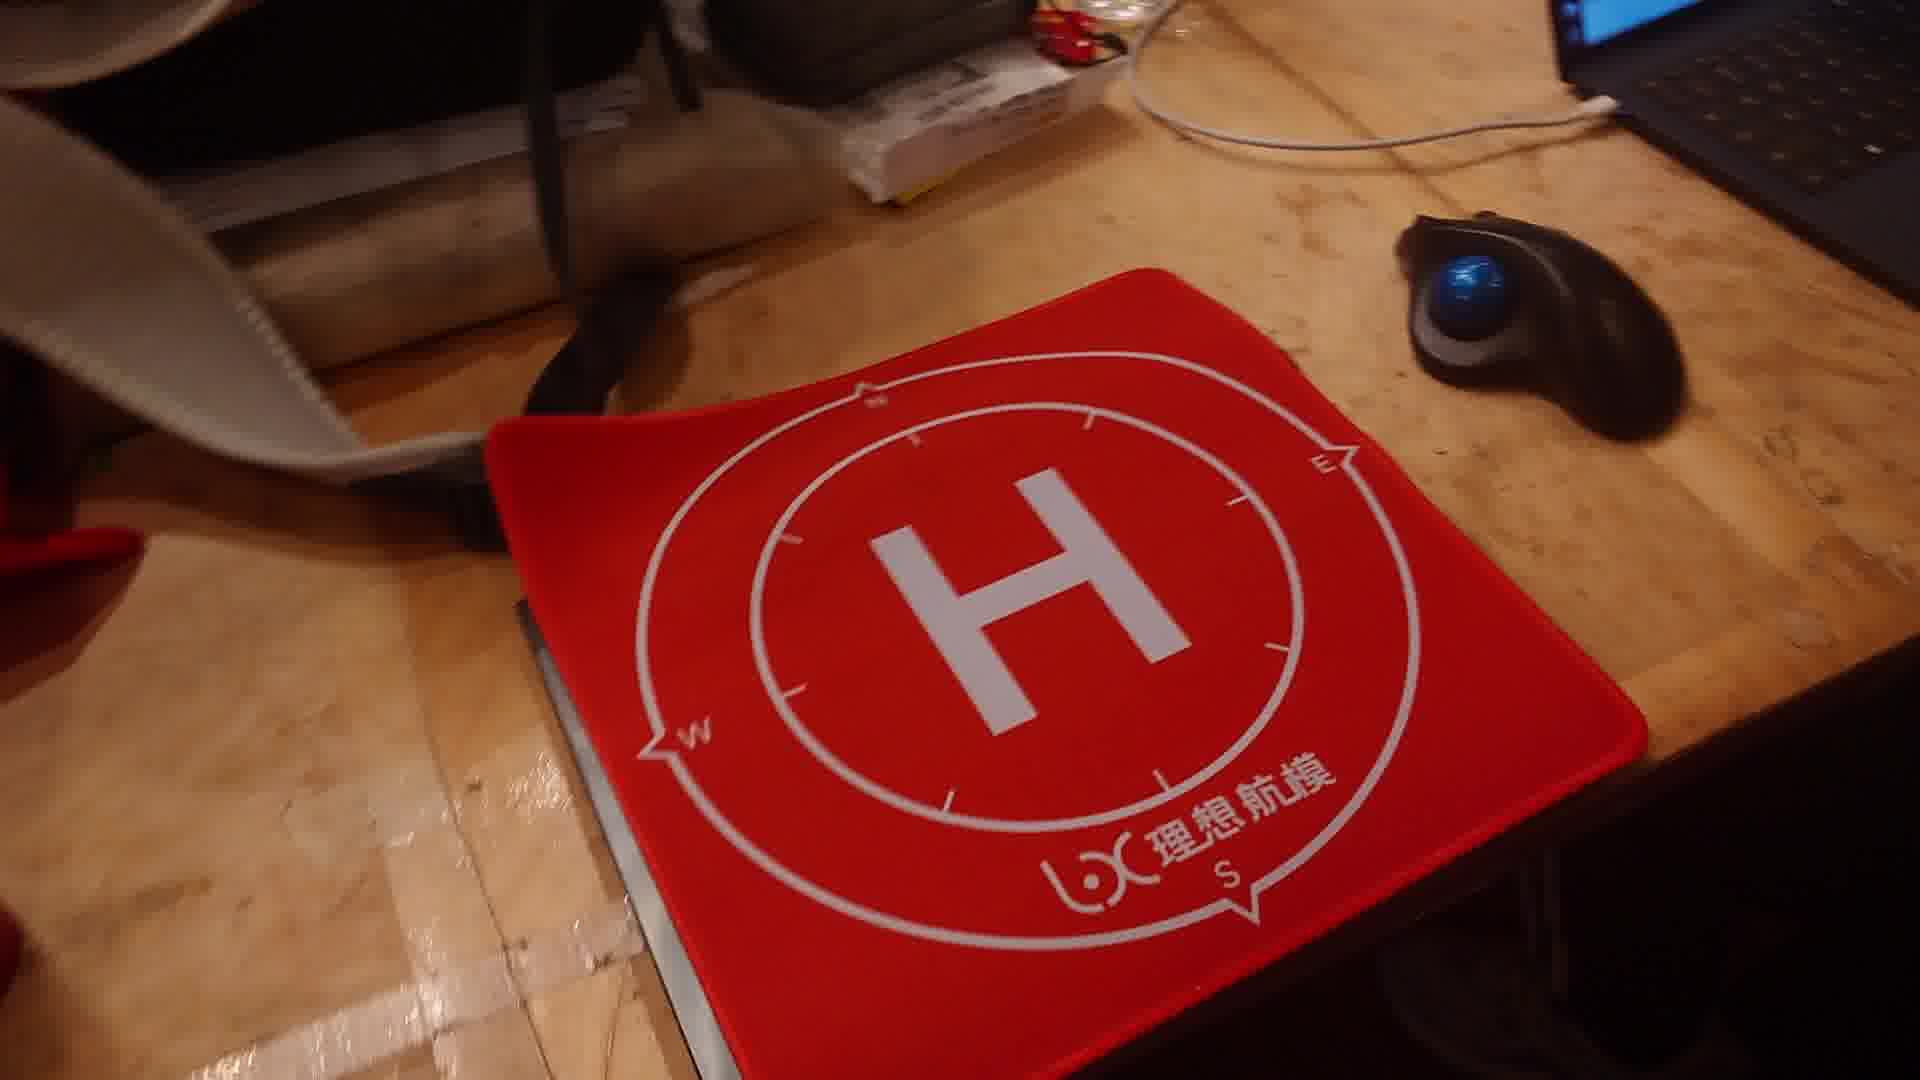H: (865, 463, 1193, 738)
